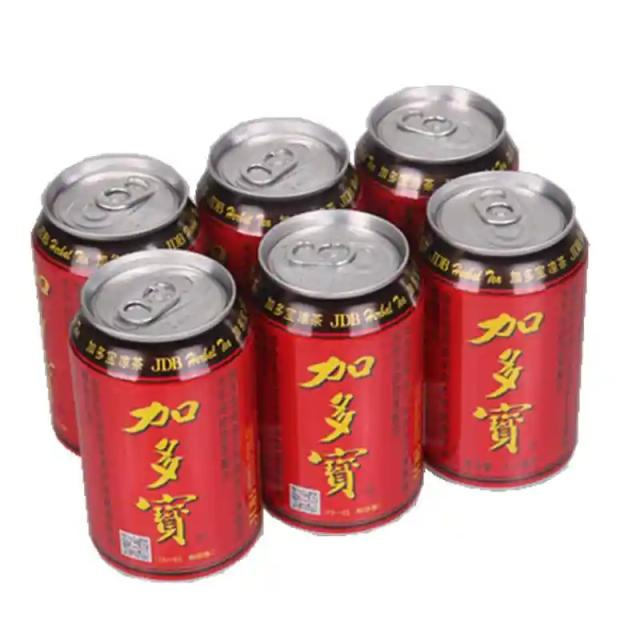can: (68, 248, 266, 587), (252, 205, 428, 540), (27, 149, 206, 456), (425, 167, 591, 495), (193, 115, 358, 258), (347, 82, 521, 212)
